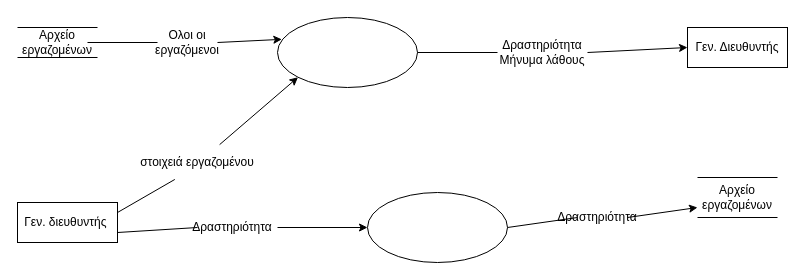
Image size: 805x280. Some labels were removed from this diagram. Each missing label, with the centre of its shape:
"5.1 Αναζήτηση εργαζομένου" belongs at [347,52].
"5.2 Ενημέρωση Δραστηριότητας" belongs at [437,227].
